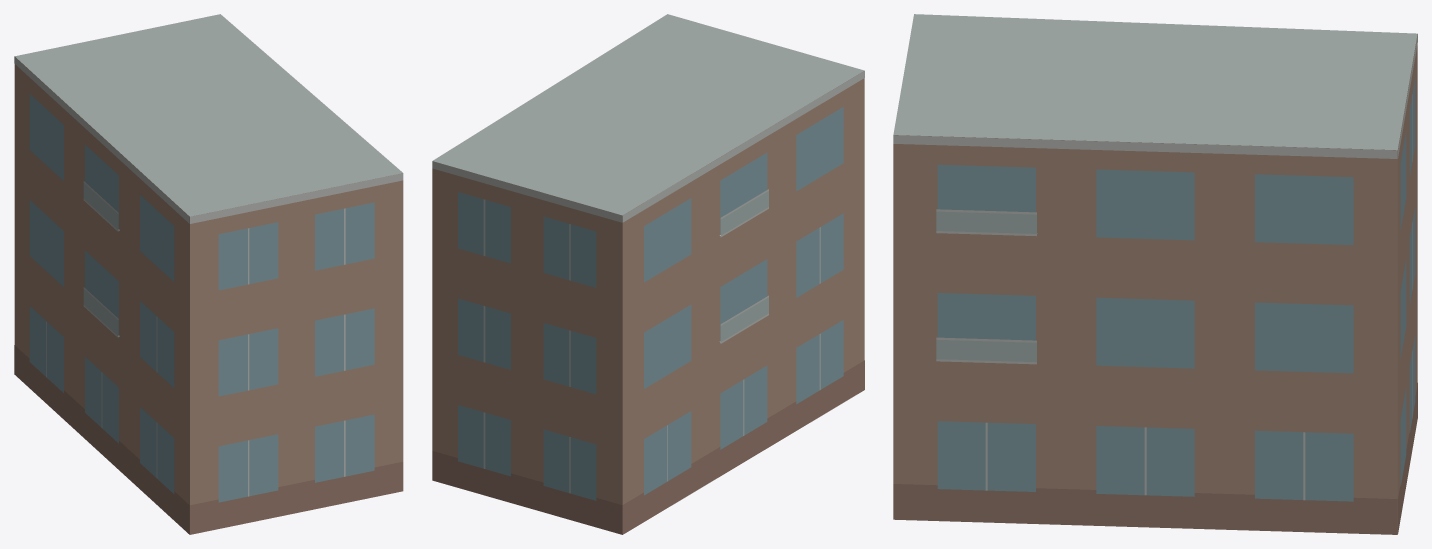
The model's file is survey-upis-32638261.glb.
The picture shows the model from 3 angles, left to right: view 1: azimuth 30°, elevation 25°; view 2: azimuth 150°, elevation 25°; view 3: azimuth 270°, elevation 25°; orthographic projection. The views are drawn at different scales.
Visible parts, largest first — view 1: survey-upis-32638261.tmp; view 2: survey-upis-32638261.tmp; view 3: survey-upis-32638261.tmp.
Boxes of the visible parts, box(x1,y1,x2,y2) form: survey-upis-32638261.tmp: box(14, 14, 403, 534); survey-upis-32638261.tmp: box(432, 14, 864, 534); survey-upis-32638261.tmp: box(893, 14, 1417, 534).
Size of the model in its own units: 8.02 by 10.55 by 13.04.
